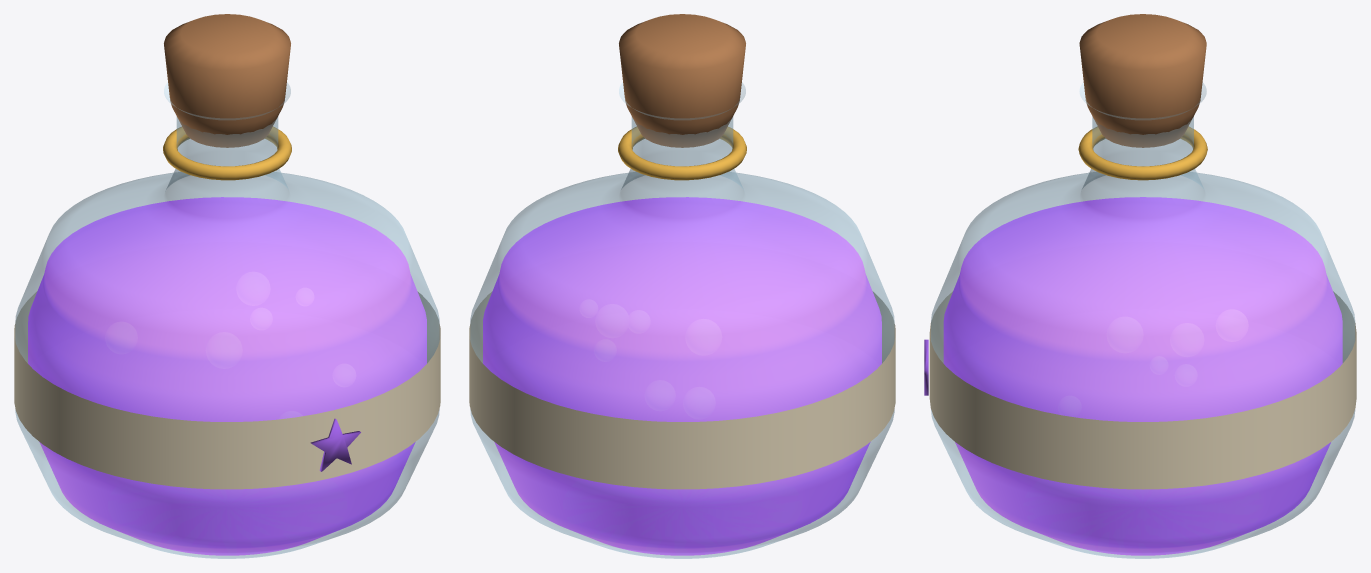
3 renders of one model, left to right at view 1: azimuth 30°, elevation 25°; view 2: azimuth 150°, elevation 25°; view 3: azimuth 270°, elevation 25°, orthographic.
Parts seen in each view (by area): view 1: part_0, part_1, part_11, part_9, part_10, part_12; view 2: part_0, part_1, part_11, part_9, part_10; view 3: part_0, part_1, part_11, part_9, part_10.
Part boxes in pixels (x1,y1,x2,y2): part_0: (15,82,439,558); part_1: (28,197,426,555); part_11: (14,292,440,489); part_9: (164,14,290,147); part_10: (163,126,291,180); part_12: (310,418,360,471); part_0: (470,82,894,558); part_1: (483,197,881,555); part_11: (469,292,895,489); part_9: (619,14,745,147); part_10: (618,126,746,180); part_0: (931,82,1355,558); part_1: (943,197,1342,555); part_11: (929,291,1356,489); part_9: (1079,14,1206,147); part_10: (1078,126,1207,180).
Size of the model in its own units: 2.01 by 2.45 by 2.03.
